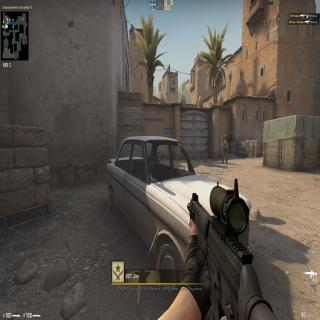T-Head: (224, 137, 227, 143)
